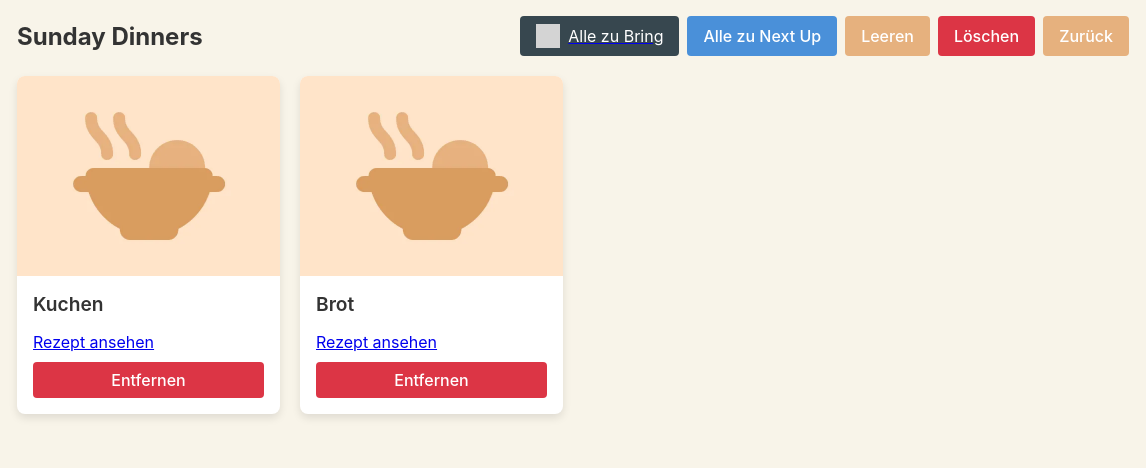
Test: CollectionDetail › clicking the name reveals an inline rename input
Step 1. Click the heading "Sunday Dinners" → (110, 36), box [17,22,203,50]
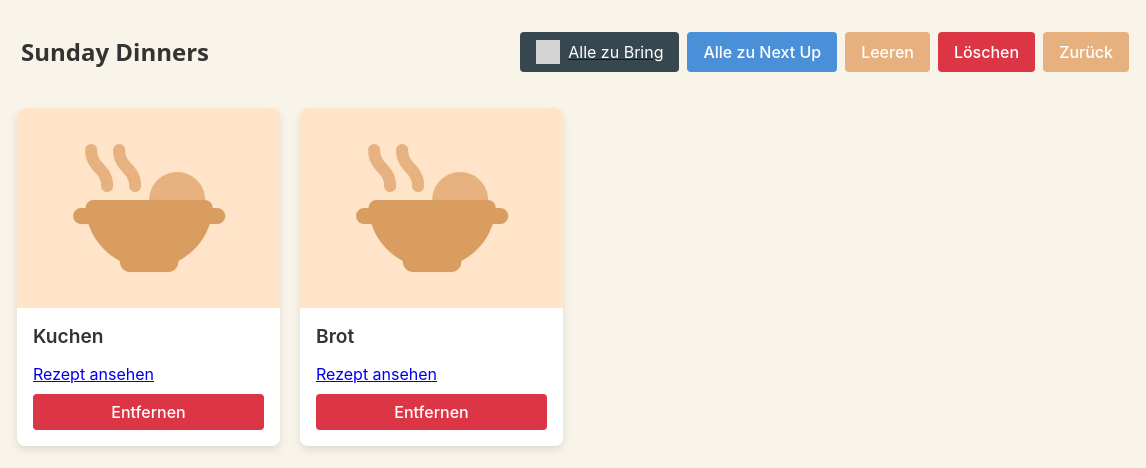
Check: the field is shown, box [17,26,393,78]
